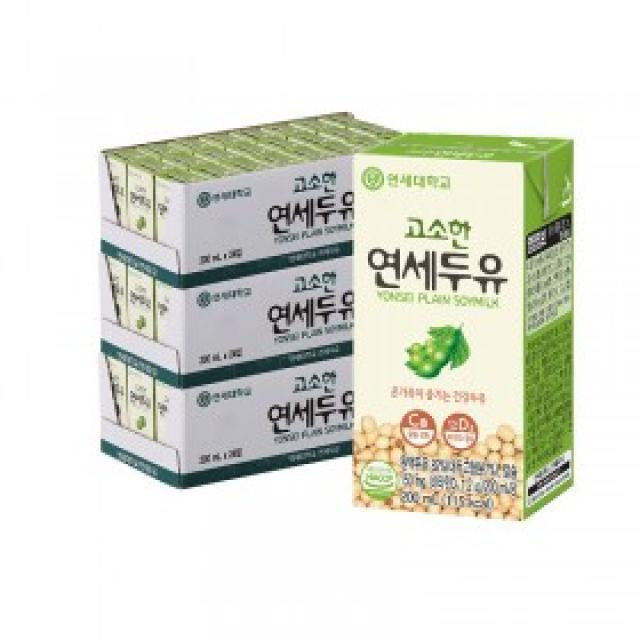Tetra: (353, 117, 583, 544)
